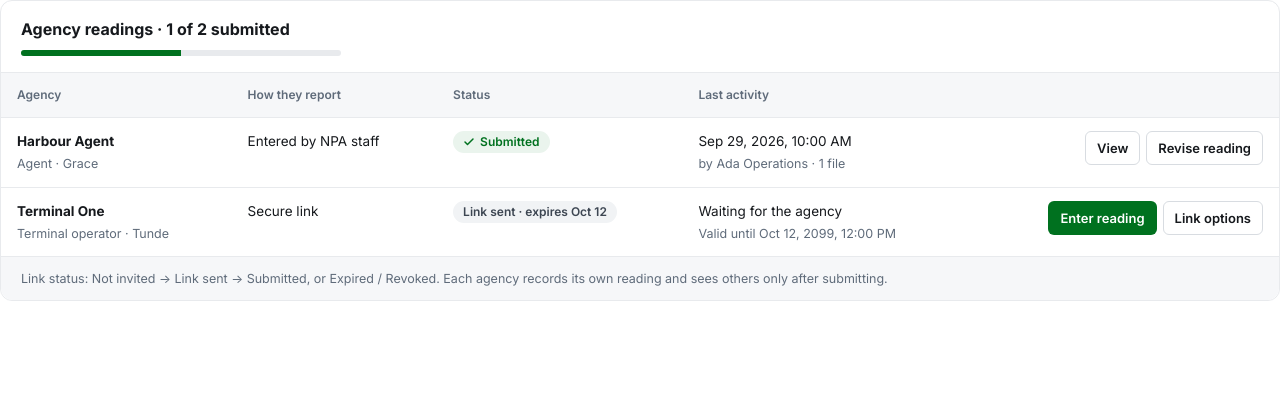
agency readings tracker › revokes an existing link from the panel
Click the button "Link options" at (1213, 218), box [1163,201,1263,235]
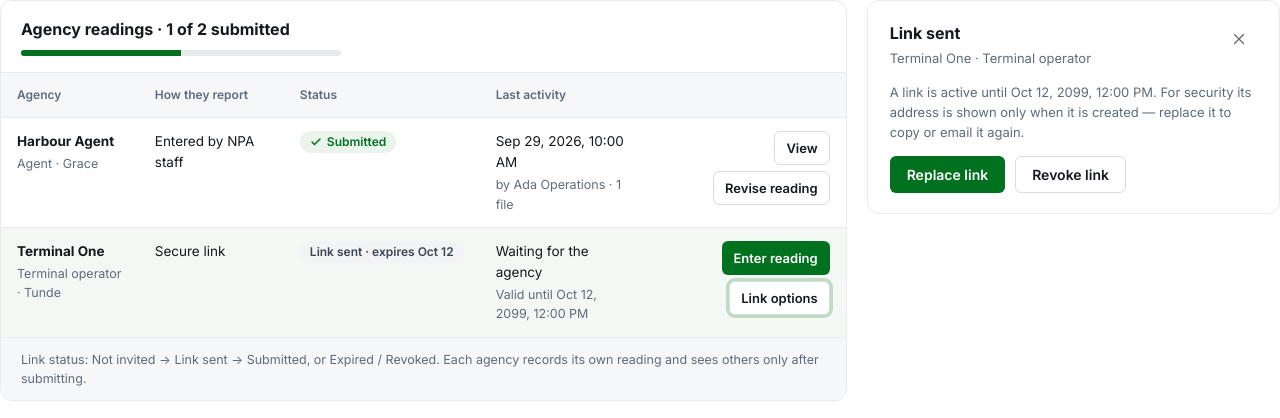
Click the button "Revoke link" at (1071, 175), box [1015,156,1126,193]
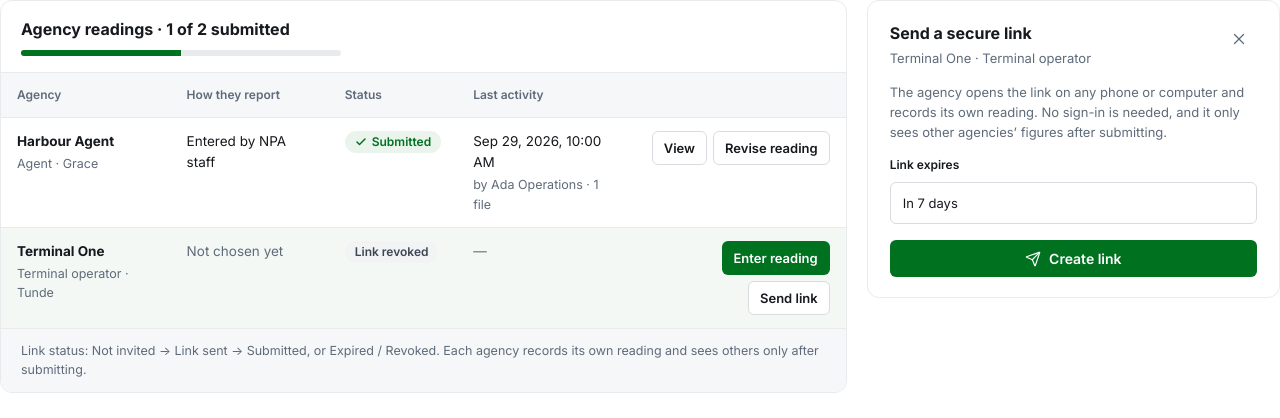
Check: the heading "Send a secure link" is shown, box [890,23,1032,43]
